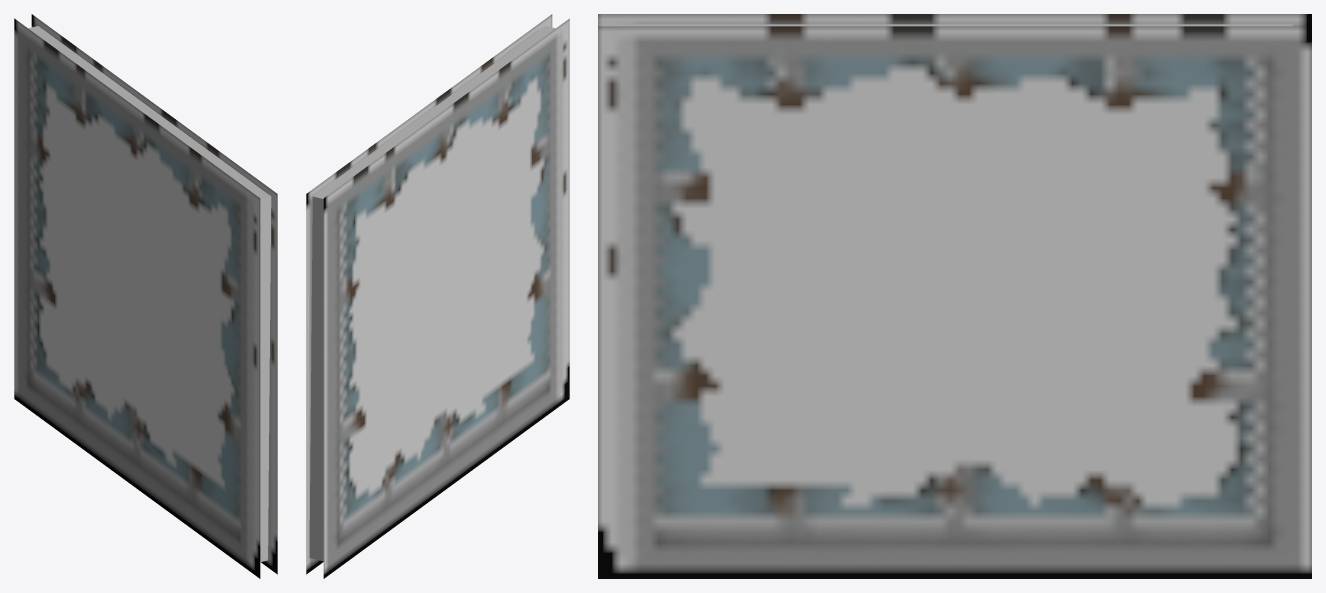
File: pz_native_fixtures_windows_white_84_frame.obj
3 renders of one model, left to right at view 1: azimuth 30°, elevation 25°; view 2: azimuth 150°, elevation 25°; view 3: azimuth 270°, elevation 25°, orthographic. The views are drawn at different scales.
Parts seen in each view (by area): view 1: pz_native_fixtures_windows_white_84_frame; view 2: pz_native_fixtures_windows_white_84_frame; view 3: pz_native_fixtures_windows_white_84_frame.
Part boxes in pixels (<box>): pz_native_fixtures_windows_white_84_frame: <box>14,14,277,578</box>; pz_native_fixtures_windows_white_84_frame: <box>306,14,569,578</box>; pz_native_fixtures_windows_white_84_frame: <box>598,14,1311,578</box>.
Size of the model in its own units: 0.04 by 0.8281 by 0.9696.
1 material, 1 textured.
